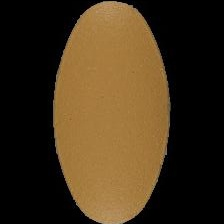55045-3817: (0, 0, 224, 224)
